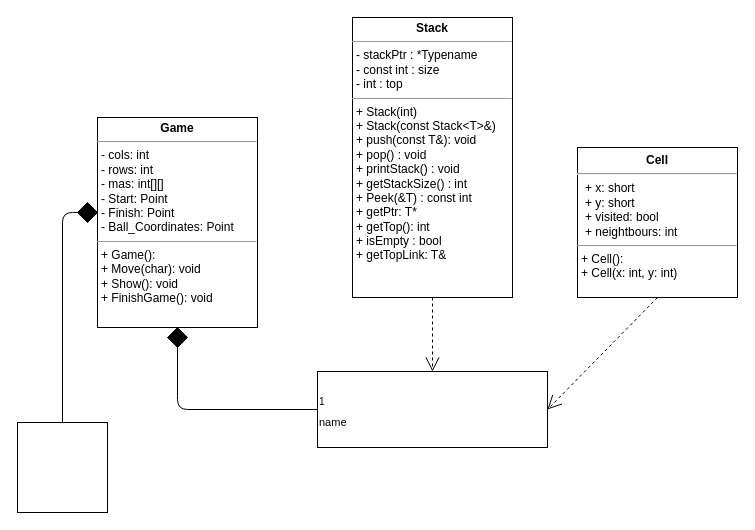
The diagram is 755 pixels wide and 530 high, and some of its shapes have lost their labels. The shapes that lost their labels are listed below. From the top down, each one's centre as x and y in pixels, then its label:
At point 432,409: "+ GenerateMaze(StartX: int, StartY:int , rows:int, cols: int): char**".
At point 62,467: "Point + x: int + y: int".
